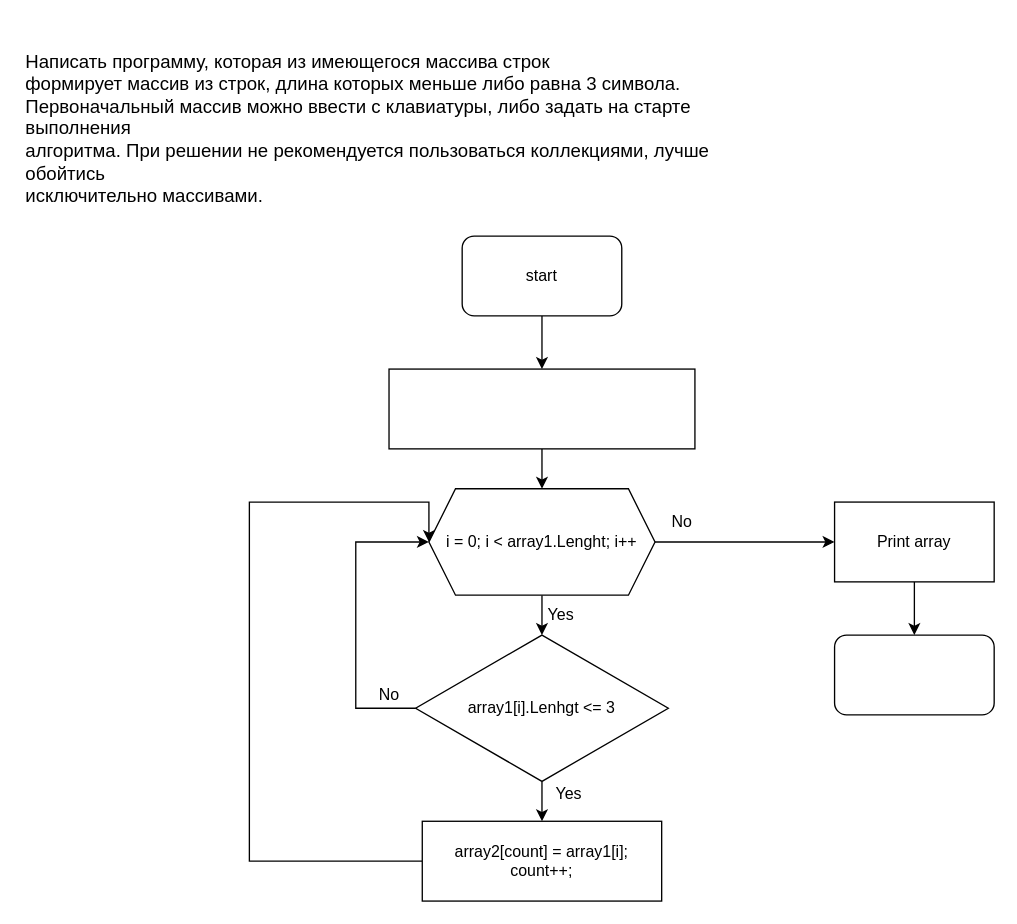
Image size: 1017x924. Some labels were removed from this diagram. The centre of each missing label's shape, as x and y in pixels:
array1 [hello, world, 2, car]; array2[array1.Lenght]; count = 0;: point (541, 408)
End: point (913, 674)
